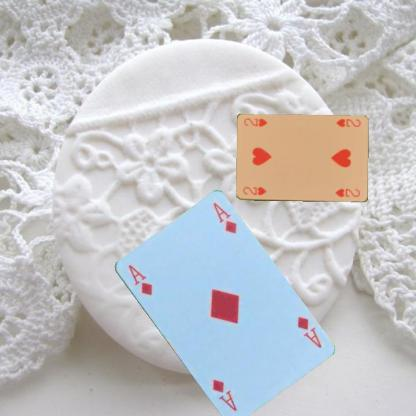2h: (333, 116, 362, 128), (240, 184, 267, 196)
Ad: (294, 314, 322, 350), (125, 262, 153, 297)
